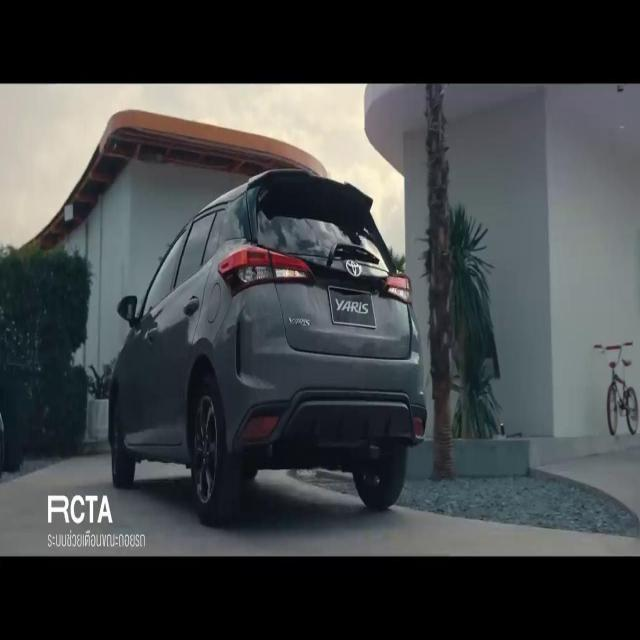Hatchback: (108, 168, 427, 526)
